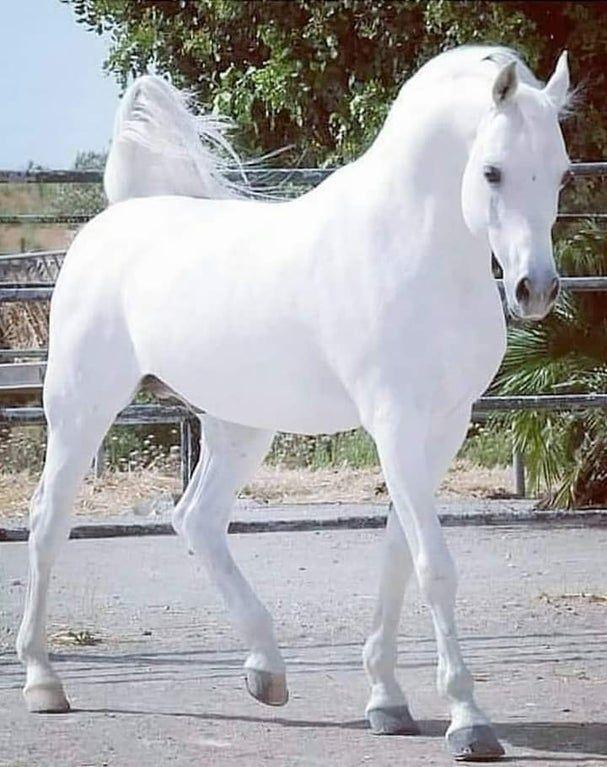horse: (15, 42, 585, 760)
